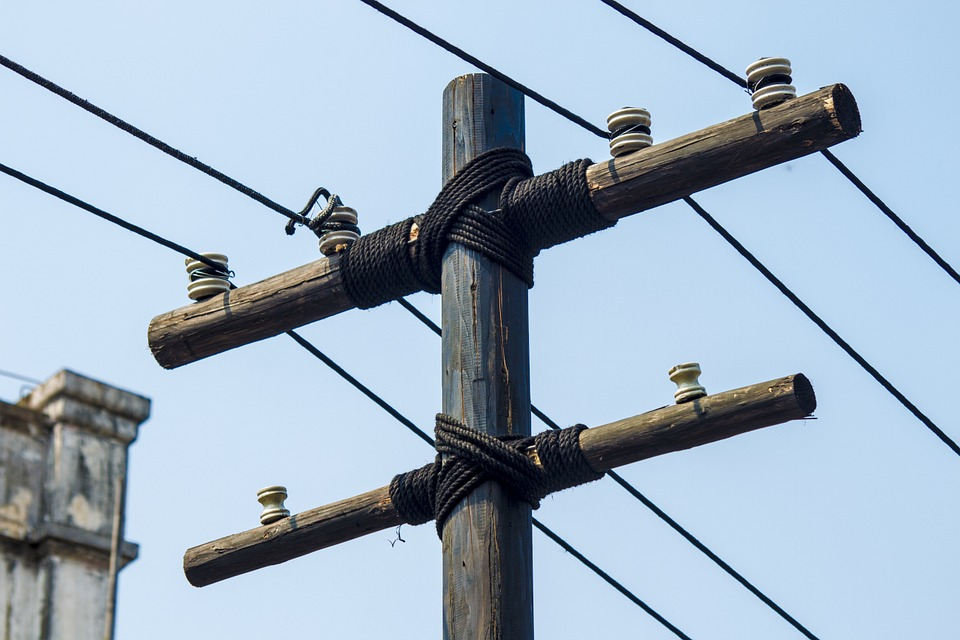utility_pole: (116, 46, 882, 612)
